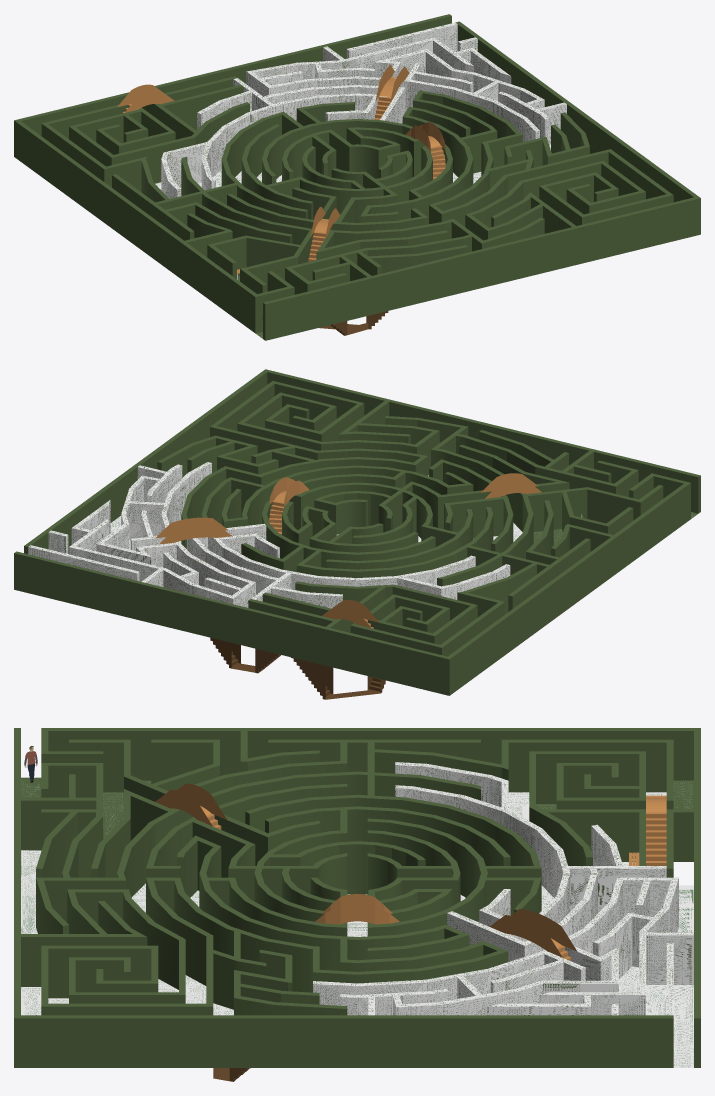
File: SketchUpMaze1.dae
3 views of the same model, one above another, from view 1: azimuth 30°, elevation 25°; view 2: azimuth 150°, elevation 25°; view 3: azimuth 270°, elevation 25° (orthographic). The views are drawn at different scales.
Parts seen in each view (by area): view 1: Component (×11), Component_2 (×2); view 2: Component (×11), Component_2 (×3), Component_1 (×2); view 3: Component (×15), Component_2 (×3), Component_3.
Part boxes in pixels (x1,y1,x2,y2): Component (×11): [14, 14, 700, 340]; Component_2 (×2): [131, 65, 405, 108]; Component (×11): [14, 369, 700, 695]; Component_2 (×3): [171, 473, 526, 624]; Component_1 (×2): [210, 637, 333, 699]; Component (×15): [14, 728, 700, 1067]; Component_2 (×3): [170, 783, 561, 950]; Component_3: [646, 812, 666, 865].
Bounding box in the file's own units: 1200 × 1200 × 234.
